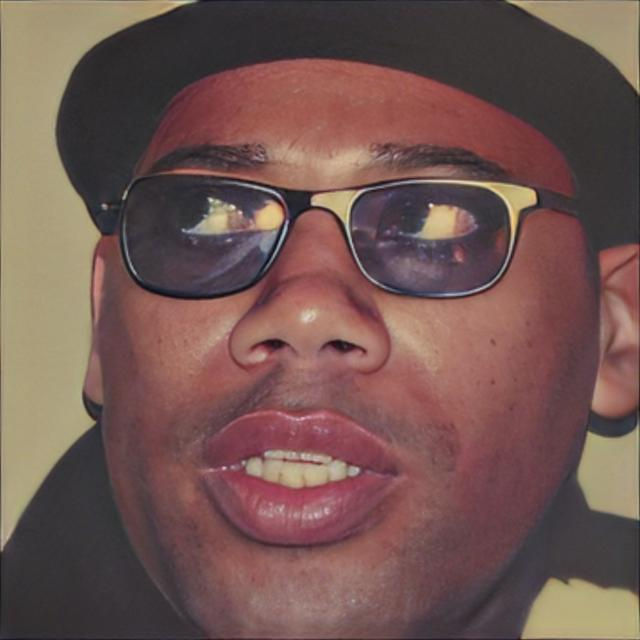surprise: (98, 63, 601, 640)
